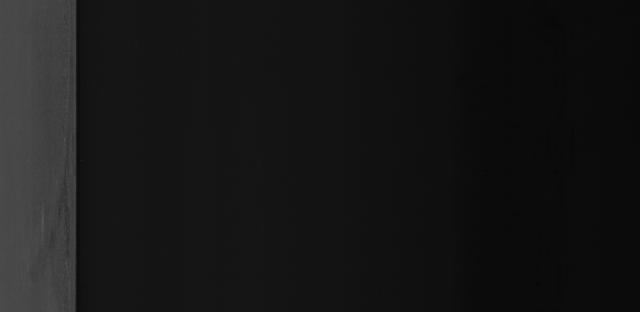silk_spot: (21, 147, 70, 282)
